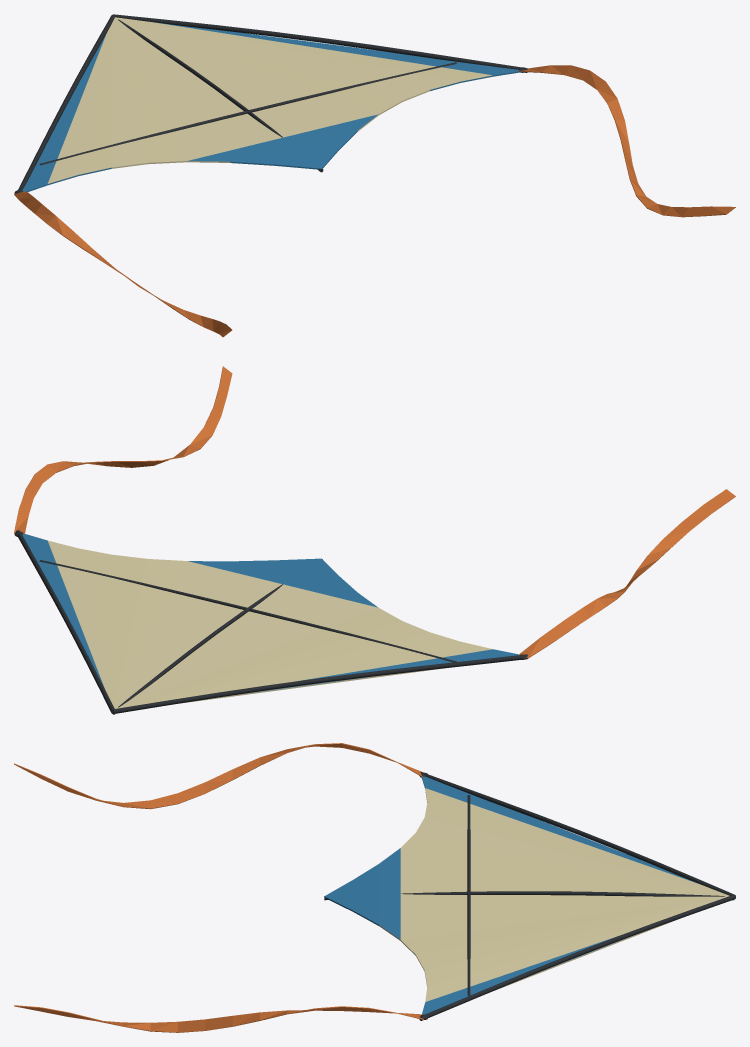
File: A-NEW-20261026-DELTA-KITE-001_LOD2_R3.glb
3 views of the same model, one above another, from view 1: azimuth 30°, elevation 25°; view 2: azimuth 150°, elevation 25°; view 3: azimuth 270°, elevation 25° (orthographic).
Visible parts, largest first — view 1: delta sail, cloth tip streamer.001, leading edge reinforcement.001, cloth tip streamer, transverse cross spar, leading edge reinforcement, central longitudinal spar; view 2: delta sail, cloth tip streamer, cloth tip streamer.001, leading edge reinforcement, transverse cross spar, leading edge reinforcement.001, central longitudinal spar; view 3: delta sail, cloth tip streamer, cloth tip streamer.001, leading edge reinforcement.001, leading edge reinforcement, central longitudinal spar, transverse cross spar.
Part boxes in pixels (x1=…): delta sail: x1=22, y1=17, x2=520, y2=192; cloth tip streamer.001: x1=519, y1=65, x2=735, y2=217; leading edge reinforcement.001: x1=113, y1=14, x2=527, y2=72; cloth tip streamer: x1=14, y1=191, x2=232, y2=337; transverse cross spar: x1=39, y1=62, x2=456, y2=165; leading edge reinforcement: x1=16, y1=14, x2=114, y2=193; central longitudinal spar: x1=118, y1=19, x2=323, y2=172; delta sail: x1=22, y1=534, x2=518, y2=708; cloth tip streamer: x1=518, y1=489, x2=735, y2=658; cloth tip streamer.001: x1=14, y1=366, x2=232, y2=533; leading edge reinforcement: x1=113, y1=654, x2=527, y2=713; transverse cross spar: x1=39, y1=560, x2=456, y2=662; leading edge reinforcement.001: x1=16, y1=530, x2=114, y2=713; central longitudinal spar: x1=113, y1=559, x2=322, y2=714; delta sail: x1=324, y1=776, x2=729, y2=1014; cloth tip streamer: x1=14, y1=743, x2=423, y2=809; cloth tip streamer.001: x1=14, y1=1005, x2=423, y2=1032; leading edge reinforcement.001: x1=419, y1=895, x2=735, y2=1020; leading edge reinforcement: x1=420, y1=772, x2=735, y2=896; central longitudinal spar: x1=324, y1=891, x2=733, y2=900; transverse cross spar: x1=467, y1=795, x2=470, y2=995.
Size of the model in its own units: 1.32 by 0.1031 by 1.5.
